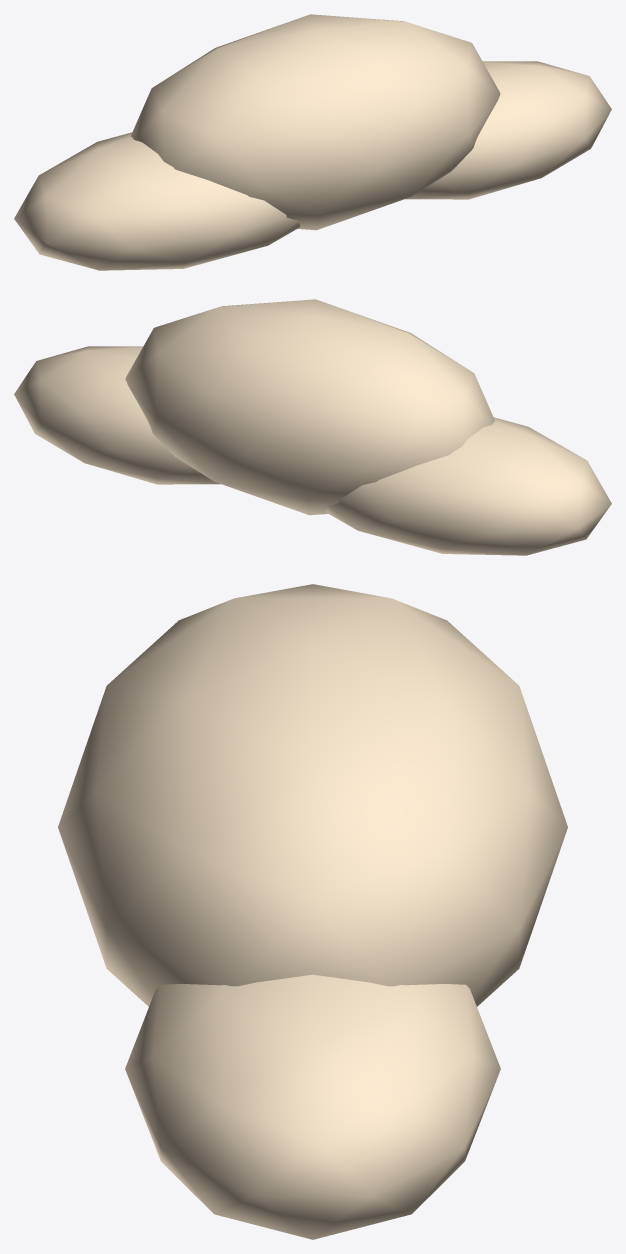
Rendered from tpe_soft_cloud.glb.
3 renders of one model, top to bottom at view 1: azimuth 30°, elevation 25°; view 2: azimuth 150°, elevation 25°; view 3: azimuth 270°, elevation 25°, orthographic. The views are drawn at different scales.
Visible parts, largest first — view 1: tpe_soft_cloud__cloud-ivory; view 2: tpe_soft_cloud__cloud-ivory; view 3: tpe_soft_cloud__cloud-ivory.
Part boxes in pixels (<box>): tpe_soft_cloud__cloud-ivory: <box>14,14,611,270</box>; tpe_soft_cloud__cloud-ivory: <box>14,299,611,555</box>; tpe_soft_cloud__cloud-ivory: <box>58,584,567,1239</box>.
Bounding box in the file's own units: 37.29 × 12.05 × 14.53.
